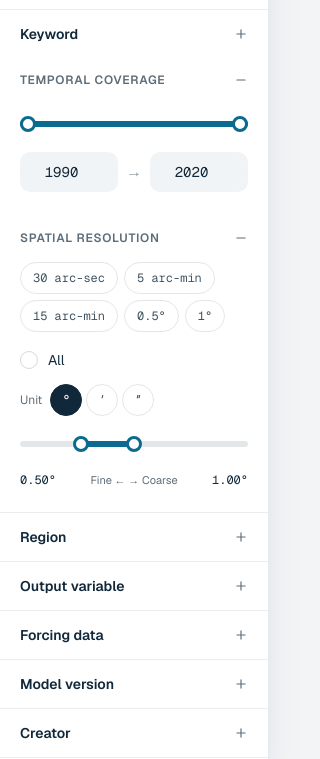
CatalogueSidebar spatial resolution › formats the caption for a coarse range in each unit
(page scrolled)
Expected: the text "0.50°" is shown, [20,472,56,488]
Expected: the text "1.00°" is shown, [212,472,248,488]
Click the button named "Arc-minutes" at (102, 400), box [86,384,118,416]
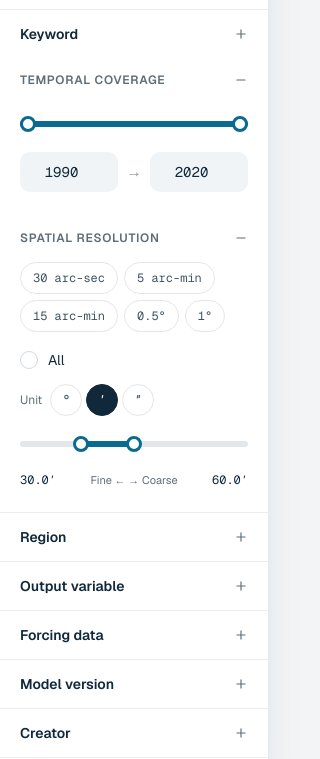
Result: the text "30.0′" is shown at [20,472,56,488]
Result: the text "60.0′" is shown at [212,472,248,488]
